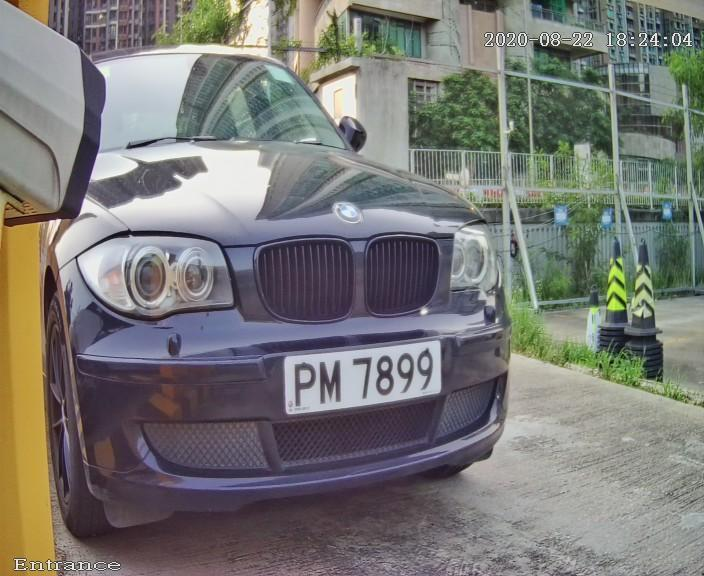Car: (1, 16, 569, 559)
License Plate: (277, 332, 444, 422)
